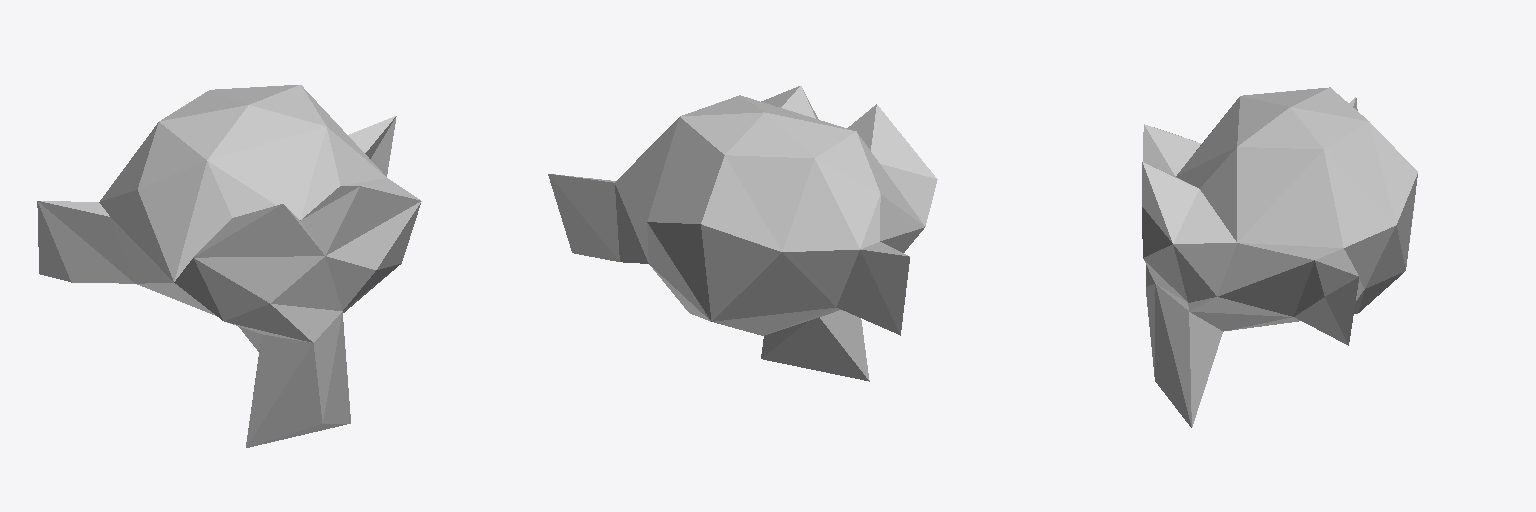
File: suzanne.obj
3 renders of one model, left to right at view 1: azimuth 30°, elevation 25°; view 2: azimuth 150°, elevation 25°; view 3: azimuth 270°, elevation 25°, orthographic.
Parts seen in each view (by area): view 1: Suzanne; view 2: Suzanne; view 3: Suzanne.
Part boxes in pixels (bbox=[...]): Suzanne: bbox=[37, 85, 421, 447]; Suzanne: bbox=[548, 86, 937, 381]; Suzanne: bbox=[1142, 87, 1417, 427].
Bounding box in the file's own units: 1.24 × 0.9727 × 0.8244.